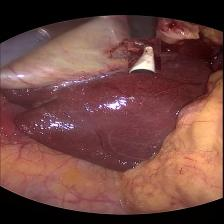Hook: (128, 37, 161, 72)
